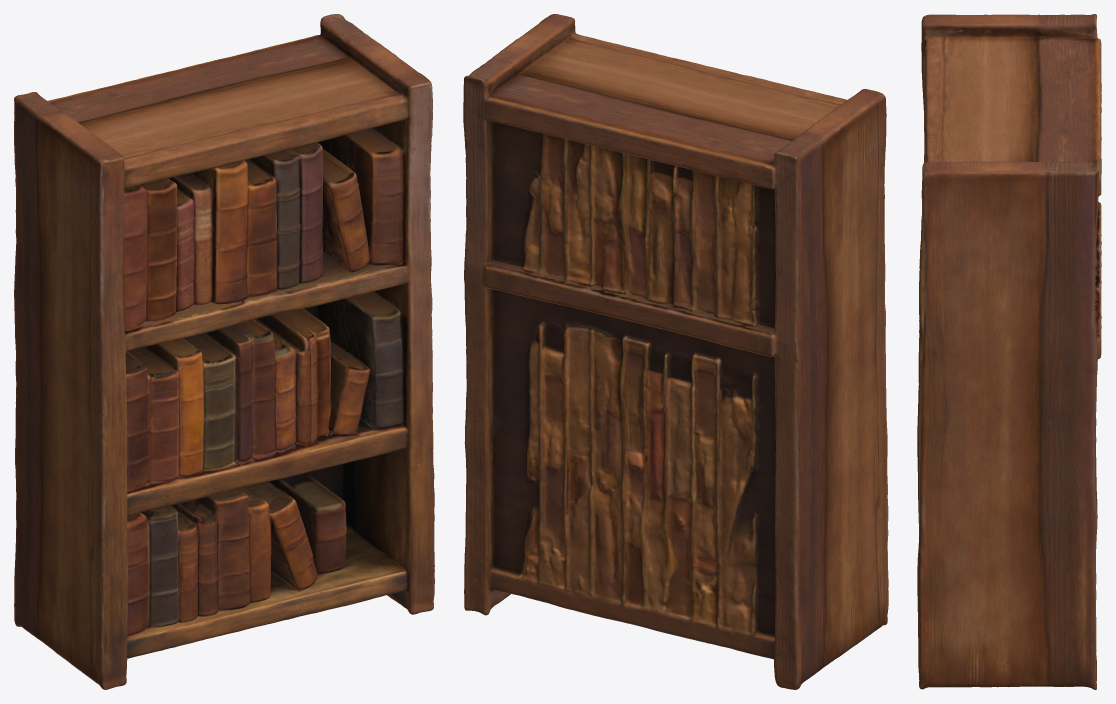
File: OldBookshelf.glb
3 renders of one model, left to right at view 1: azimuth 30°, elevation 25°; view 2: azimuth 150°, elevation 25°; view 3: azimuth 270°, elevation 25°, orthographic. The views are drawn at different scales.
Bounding box in the file's own units: 1.25 × 1.9 × 0.6078.
1 material, 1 textured.
